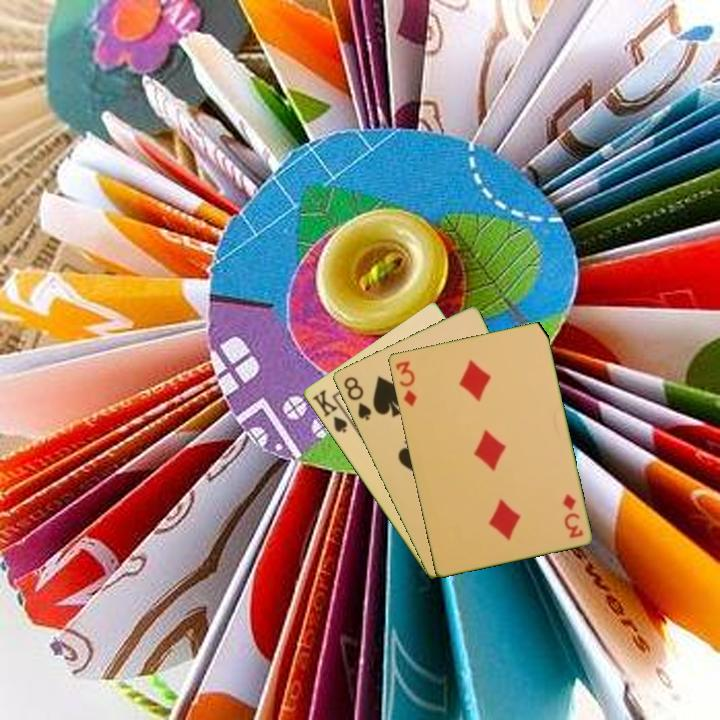3d: (392, 357, 419, 409), (559, 490, 586, 541)
8s: (340, 373, 374, 423)
Ks: (308, 386, 356, 436)
